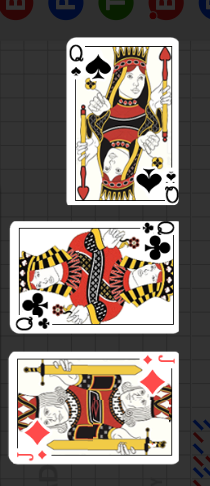9S: (67, 42, 84, 79)
JD: (15, 450, 49, 463)
QC: (132, 223, 179, 267), (12, 290, 58, 334)
